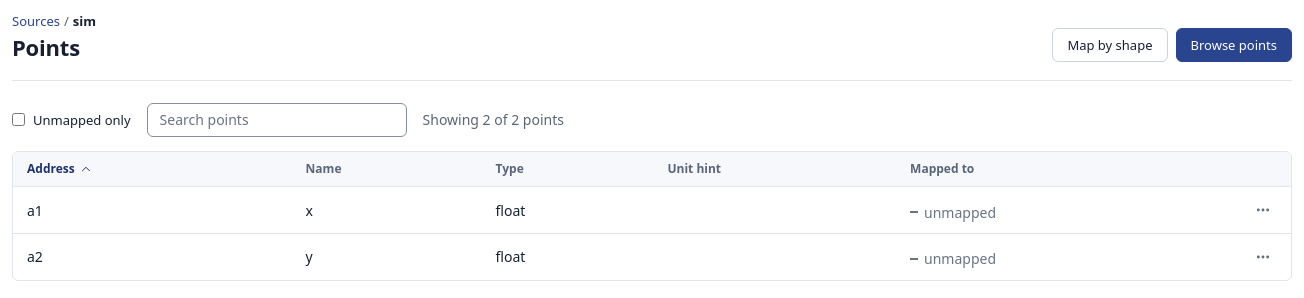
Test case: SourcePointsPage sorting, filtering and search › says when the filters match nothing, without the no-points-yet line
expect the text "a1" is shown: met, box 27,201 -> 43,220
Type "zzz" into the search field with placeholder "Search points" at (277, 120), box 147,103 -> 407,137
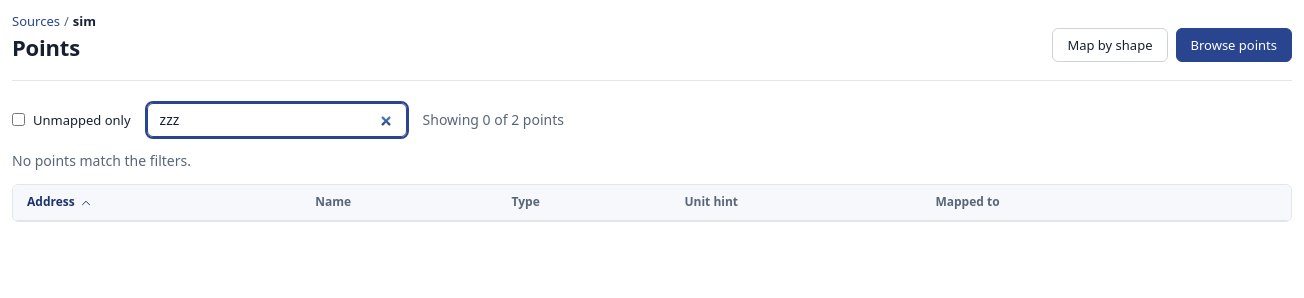
expect the text "No points match the filters." is shown: met, box 12,151 -> 191,170
expect the text "Showing 0 of 2 points" is shown: met, box 423,110 -> 564,130
Clear the search field named "Search points" at (277, 120), box 147,103 -> 407,137
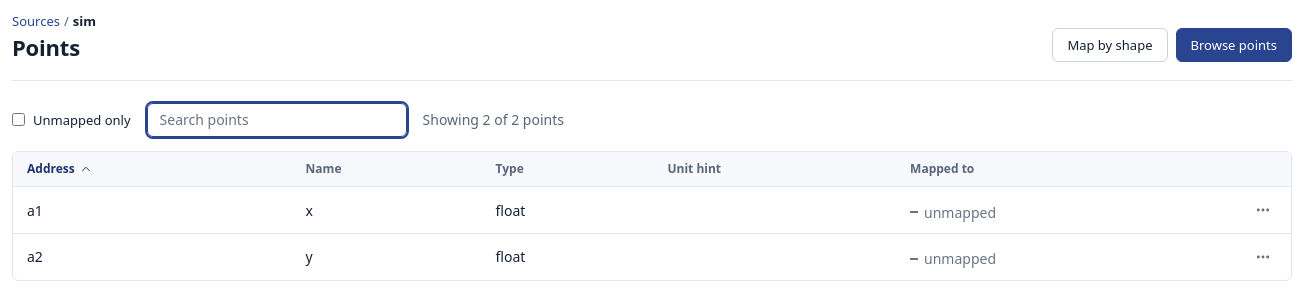
expect the text "No points match the filters." is gone: met
